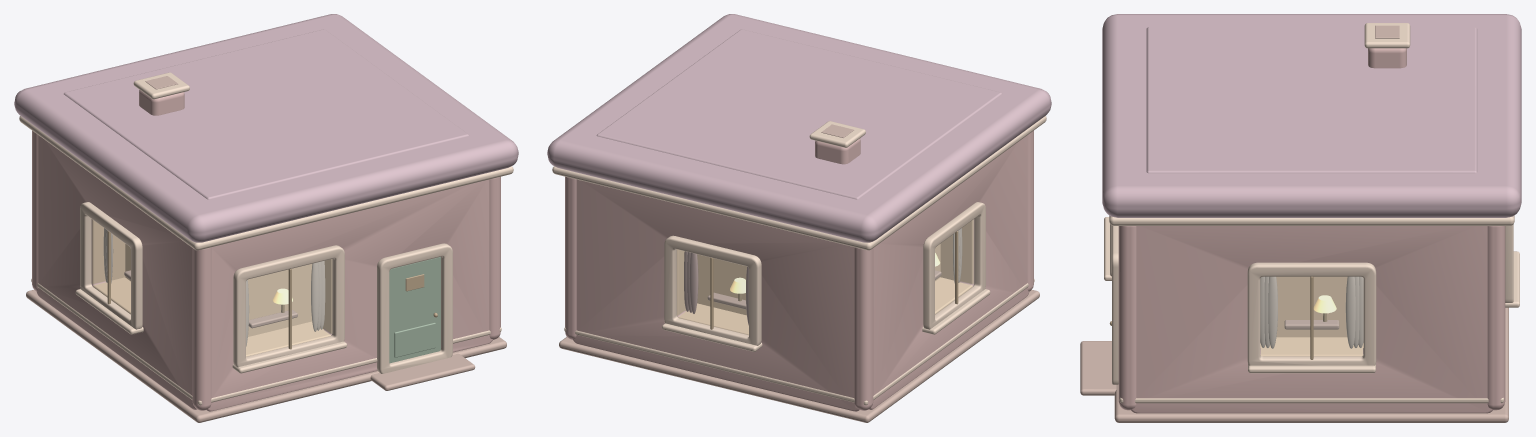
File: blush.glb
3 views of the same model, side by side, from view 1: azimuth 30°, elevation 25°; view 2: azimuth 150°, elevation 25°; view 3: azimuth 270°, elevation 25° (orthographic). The views are drawn at different scales.
Parts seen in each view (by area): view 1: NW92 detached blush NW92_roof, NW92 detached blush NW92_blush, NW92 detached blush NW92_trim, NW92 detached blush room59_glass_sage, NW92 detached blush NW92_room, NW92 detached blush NW92_stone, NW92 detached blush NW92_door, NW92 detached blush NW92_curtain, NW92 detached blush NW92_brass; view 2: NW92 detached blush NW92_roof, NW92 detached blush NW92_blush, NW92 detached blush NW92_trim, NW92 detached blush room59_glass_sage, NW92 detached blush NW92_room, NW92 detached blush NW92_stone, NW92 detached blush NW92_curtainRose, NW92 detached blush NW92_brass; view 3: NW92 detached blush NW92_roof, NW92 detached blush NW92_blush, NW92 detached blush NW92_trim, NW92 detached blush room59_glass_sage, NW92 detached blush NW92_stone, NW92 detached blush NW92_room, NW92 detached blush NW92_curtain.
Part boxes in pixels (x1,y1,x2,y2): NW92 detached blush NW92_roof: (14,14,518,242); NW92 detached blush NW92_blush: (32,90,500,411); NW92 detached blush NW92_trim: (19,72,513,405); NW92 detached blush room59_glass_sage: (92,220,331,355); NW92 detached blush NW92_room: (92,219,332,356); NW92 detached blush NW92_stone: (26,76,506,422); NW92 detached blush NW92_door: (389,257,440,363); NW92 detached blush NW92_curtain: (103,228,325,346); NW92 detached blush NW92_brass: (107,231,437,349); NW92 detached blush NW92_roof: (547,14,1051,242); NW92 detached blush NW92_blush: (565,130,1033,411); NW92 detached blush NW92_trim: (552,116,1046,405); NW92 detached blush room59_glass_sage: (677,220,973,334); NW92 detached blush NW92_room: (677,219,973,334); NW92 detached blush NW92_stone: (559,124,1039,422); NW92 detached blush NW92_curtainRose: (684,251,748,325); NW92 detached blush NW92_brass: (710,231,958,329); NW92 detached blush NW92_roof: (1102,14,1521,217); NW92 detached blush NW92_blush: (1118,48,1505,413); NW92 detached blush NW92_trim: (1104,23,1519,403); NW92 detached blush room59_glass_sage: (1261,277,1362,355); NW92 detached blush NW92_stone: (1080,25,1508,422); NW92 detached blush NW92_room: (1260,276,1363,356); NW92 detached blush NW92_curtain: (1260,276,1363,348).
Bounding box in the file's own units: 9.3 × 6.32 × 9.47.
